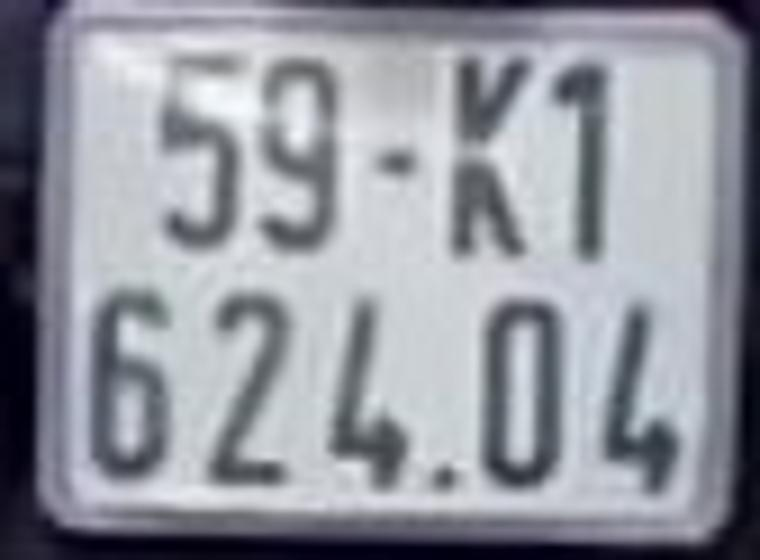-: (371, 151, 411, 174)
.: (432, 469, 449, 486)
0: (483, 299, 557, 484)
1: (553, 66, 609, 267)
2: (203, 294, 285, 484)
4: (331, 297, 406, 491), (604, 301, 677, 491)
5: (155, 53, 242, 247)
6: (88, 288, 167, 480)
9: (260, 57, 338, 248)
K: (452, 55, 526, 258)
